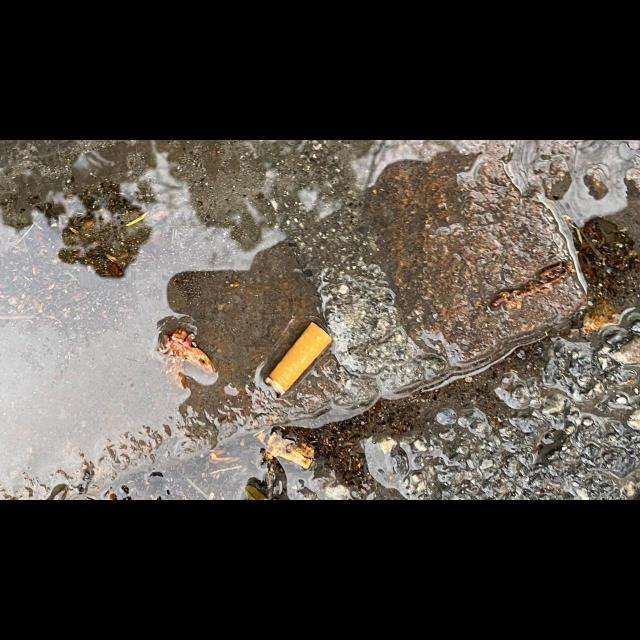cigarette: (264, 321, 332, 398)
